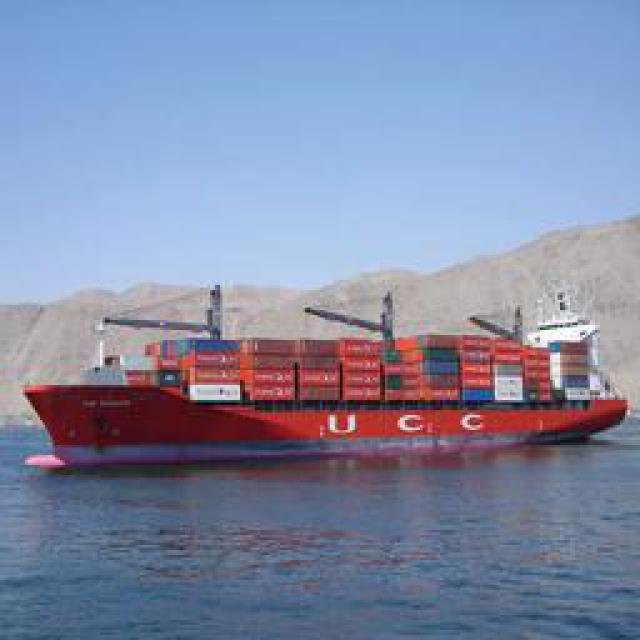Ship: (19, 301, 629, 464)
